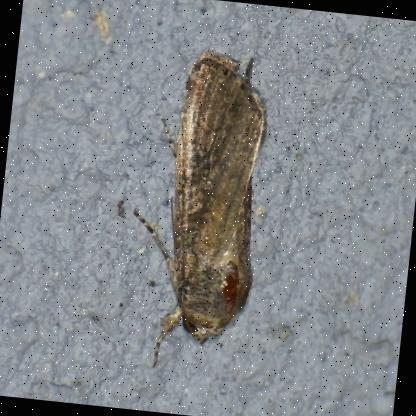Fall Armyworm Moth: (114, 41, 281, 380)
